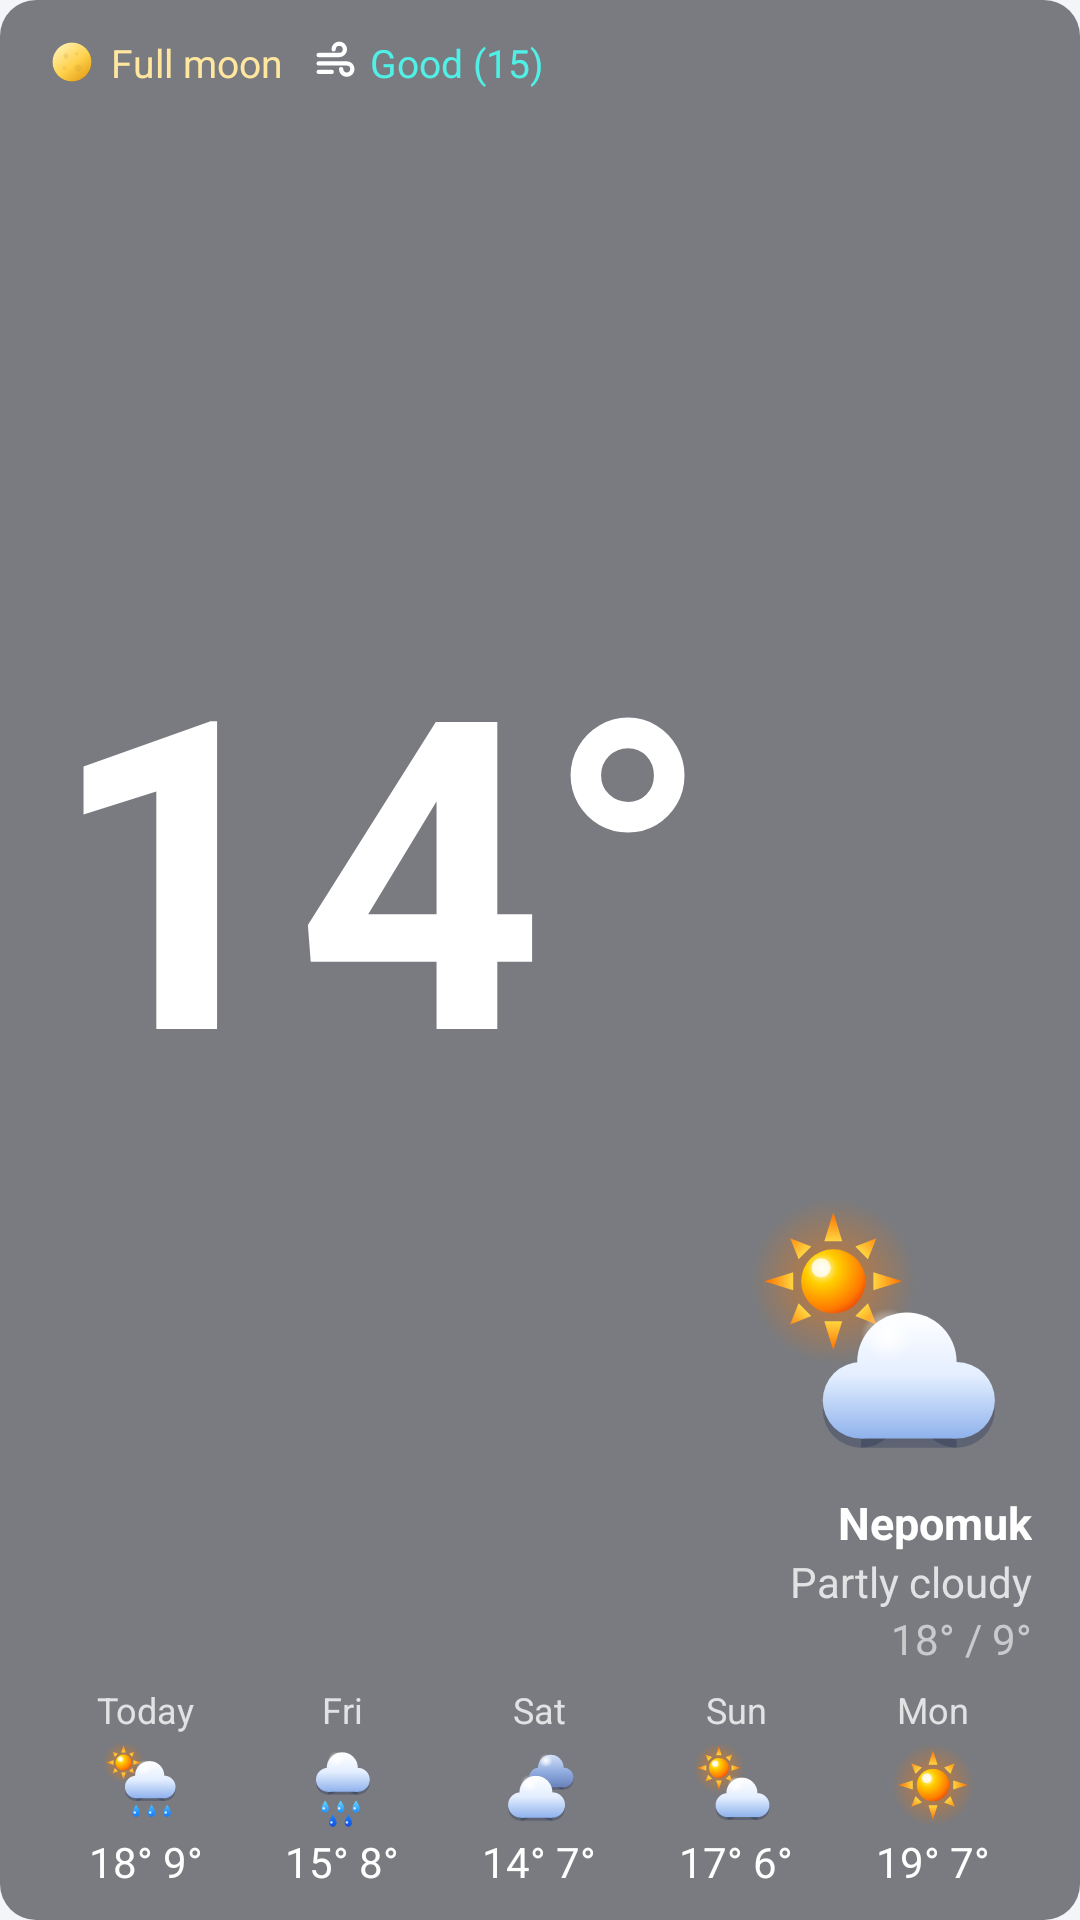

Icon click points for this 1080 × 1920 phone screenshot, format (x=x, y=y):
air: (x=335, y=59)
clear day: (x=933, y=1785)
overcast: (x=541, y=1787)
partly day: (x=879, y=1330), (x=733, y=1783)
rain: (x=343, y=1789)
showers day: (x=141, y=1781)
